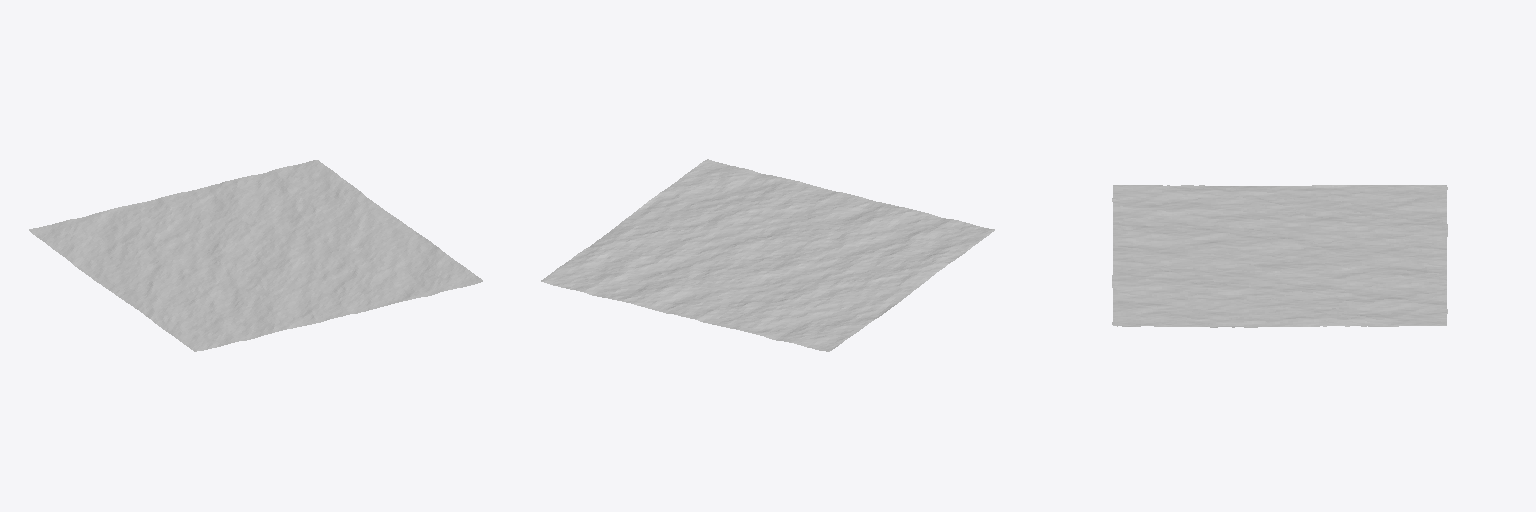
The model's file is sea_000058.obj.
3 renders of one model, left to right at view 1: azimuth 30°, elevation 25°; view 2: azimuth 150°, elevation 25°; view 3: azimuth 270°, elevation 25°, orthographic.
Parts seen in each view (by area): view 1: Plane; view 2: Plane; view 3: Plane.
Part boxes in pixels (left/top/right/bottom): Plane: left=29, top=160, right=482, bottom=351; Plane: left=541, top=159, right=994, bottom=351; Plane: left=1112, top=185, right=1447, bottom=327.
Size of the model in its own units: 202 by 1.71 by 201.